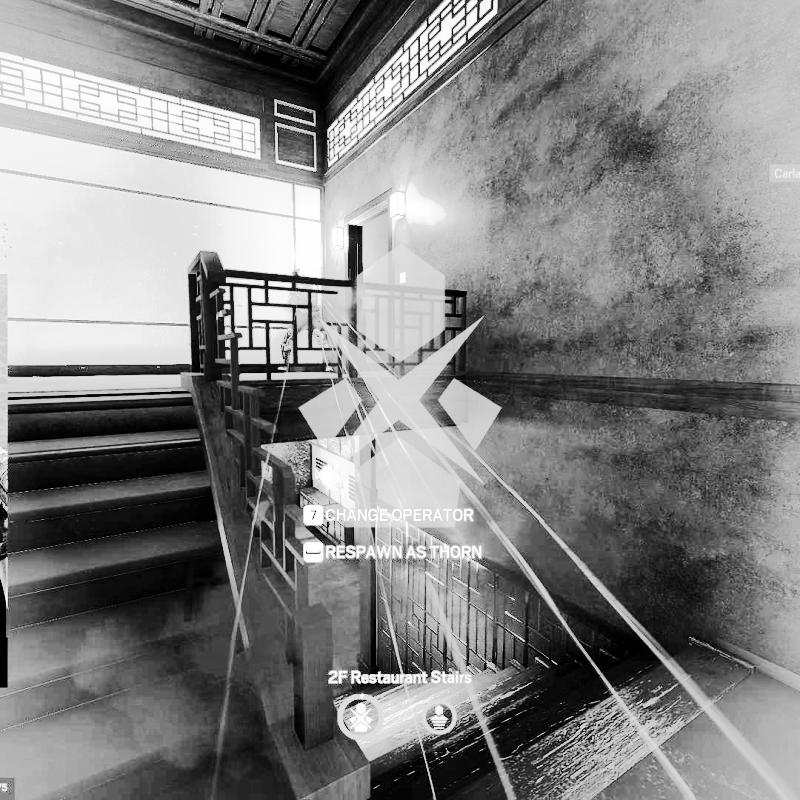Character: (278, 266, 340, 375)
Head: (292, 268, 306, 276)
